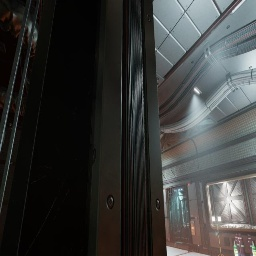0: (234, 240, 238, 256), (252, 241, 256, 256), (252, 241, 255, 256)
NitrogenTank ,: (238, 233, 246, 256), (238, 234, 246, 256), (234, 233, 241, 256), (247, 234, 253, 256)
SafetySwitchPanel ,: (190, 220, 196, 235)
